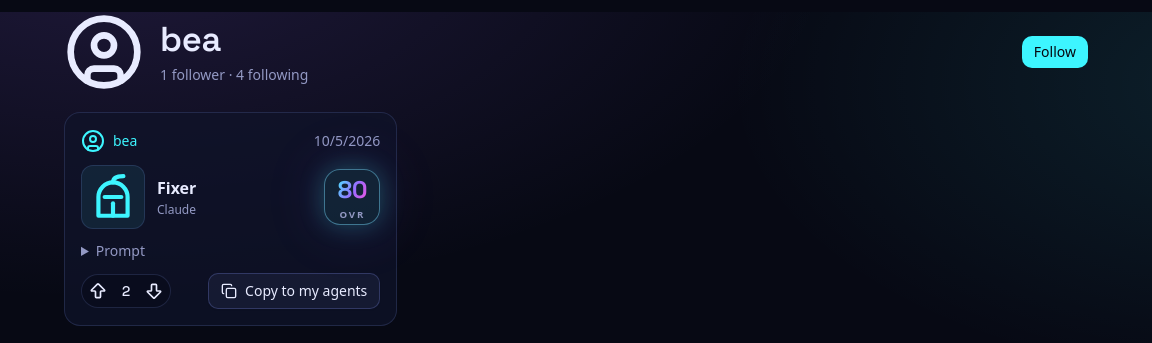
shows a Trainformer's counts and posts, and follows them
The width and height of the screenshot is (1152, 343).
Expected: the heading "bea" is shown, [160, 17, 221, 61]
Expected: the text "1 follower · 4 following" is shown, [160, 65, 308, 85]
Click the button with aria-label "Follow bea".
click(1055, 52)  # box [1022, 36, 1088, 68]
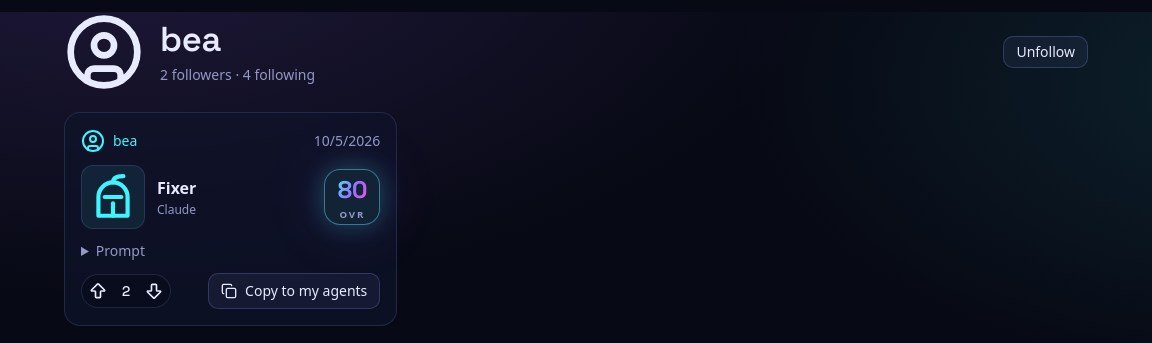
Expected: the text "2 followers · 4 following" is shown, [160, 65, 315, 85]
Click the button named "Upvote".
click(98, 291)  # box [82, 275, 114, 307]
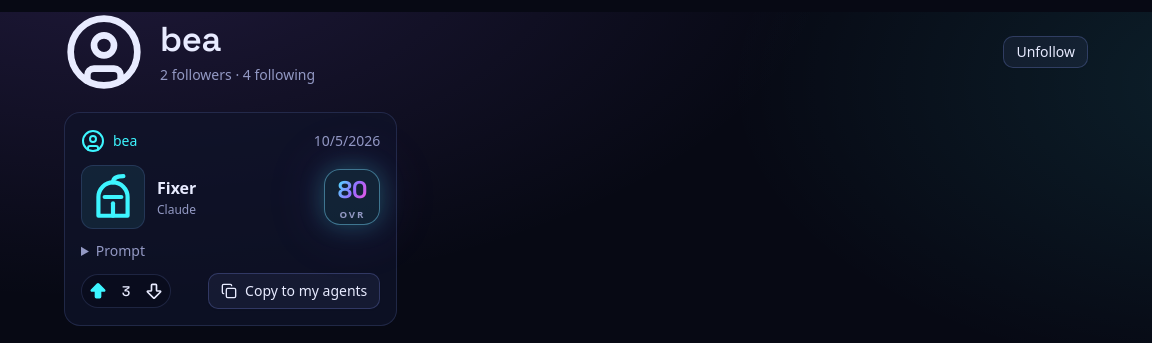
Expected: the element named "Votes" reads "3", [122, 282, 130, 300]
